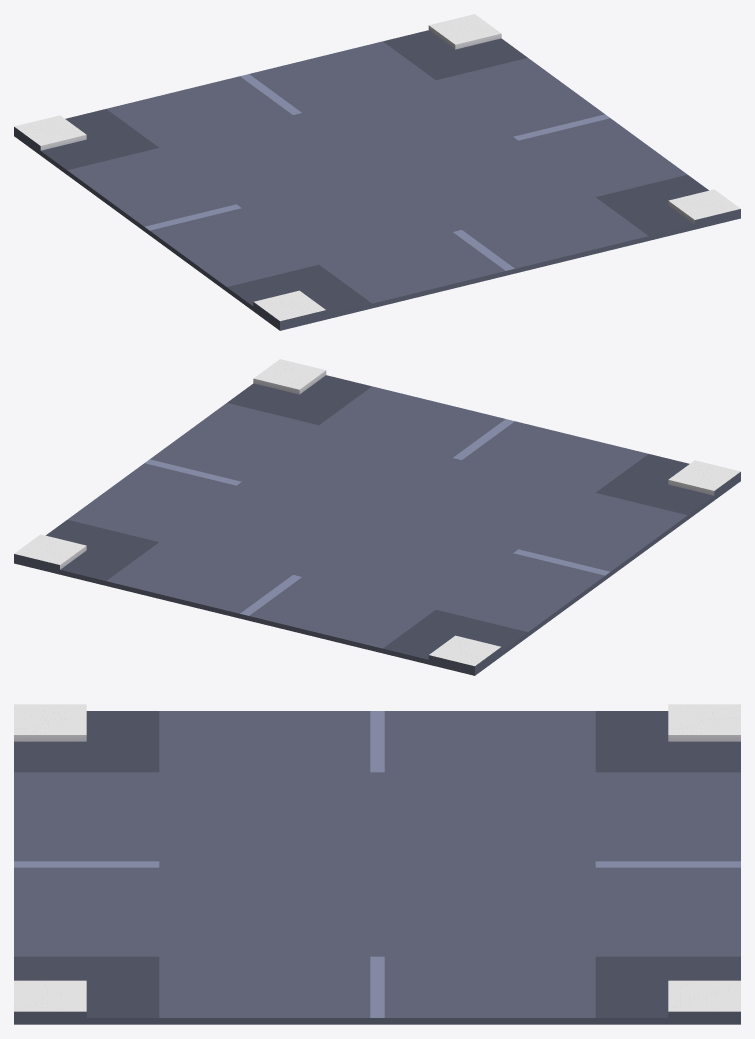
File: road-crossroad.glb
3 renders of one model, top to bottom at view 1: azimuth 30°, elevation 25°; view 2: azimuth 150°, elevation 25°; view 3: azimuth 270°, elevation 25°, orthographic. The views are drawn at different scales.
Parts seen in each view (by area): view 1: road-crossroad; view 2: road-crossroad; view 3: road-crossroad.
Boxes of the visible parts, left/top/right/bottom form: road-crossroad: left=14, top=14, right=740, bottom=330; road-crossroad: left=14, top=359, right=740, bottom=675; road-crossroad: left=14, top=704, right=740, bottom=1024.
Size of the model in its own units: 1 by 0.02 by 1.
Materials: 1 (1 with a texture image).
